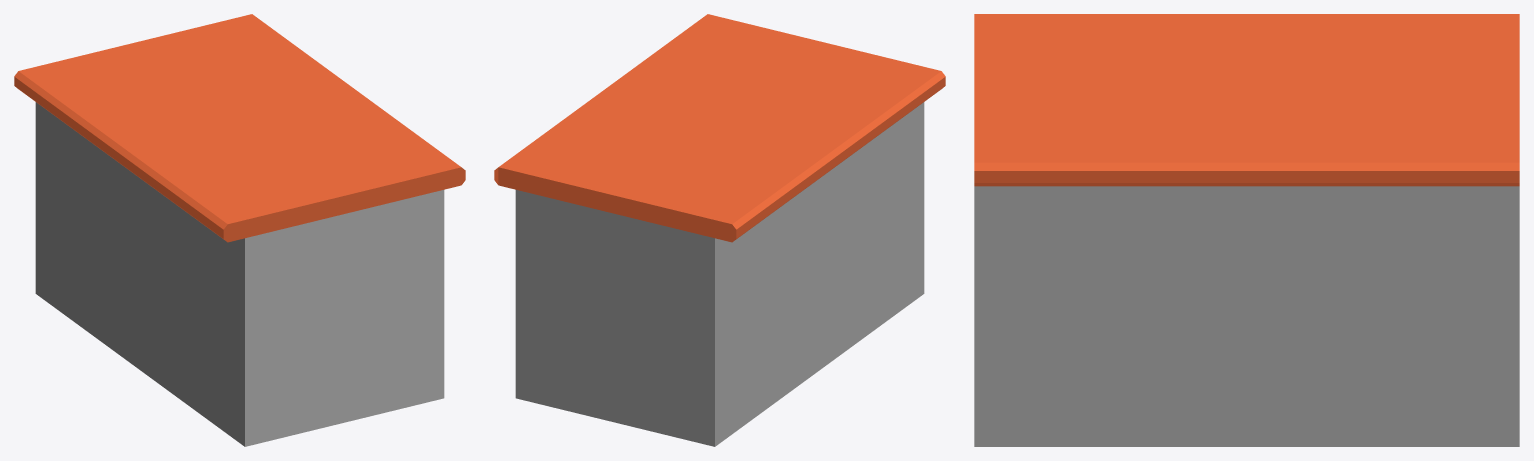
Rendered from Kitchen table.fbx.
The picture shows the model from 3 angles, left to right: view 1: azimuth 30°, elevation 25°; view 2: azimuth 150°, elevation 25°; view 3: azimuth 270°, elevation 25°; orthographic projection. The views are drawn at different scales.
Visible parts, largest first — view 1: Kitchen table; view 2: Kitchen table; view 3: Kitchen table.
Boxes of the visible parts, box(x1,y1,x2,y2) form: Kitchen table: box(14, 14, 465, 446); Kitchen table: box(494, 14, 945, 446); Kitchen table: box(974, 14, 1519, 446).
Size of the model in its own units: 243 by 217 by 364.
